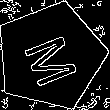M_E: (18, 25, 84, 88)
